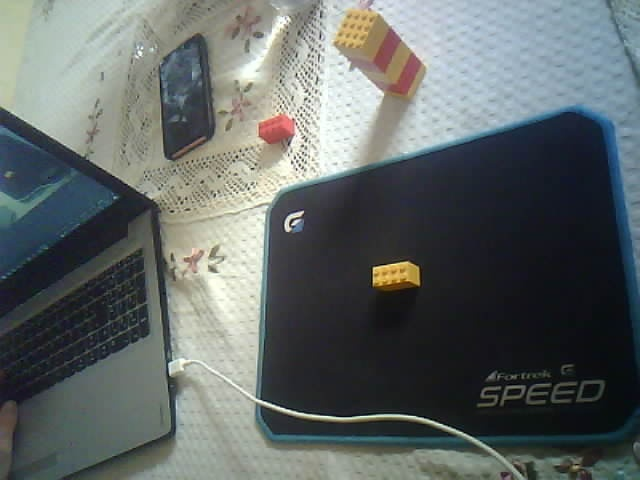lego: (332, 9, 427, 100), (371, 260, 420, 291), (257, 114, 295, 143)
